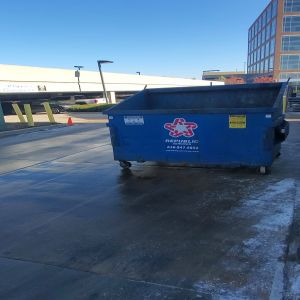Dumpster: (104, 82, 290, 176)
